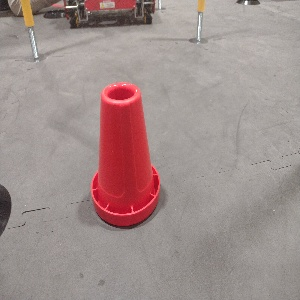Red_1: (82, 81, 159, 224)
